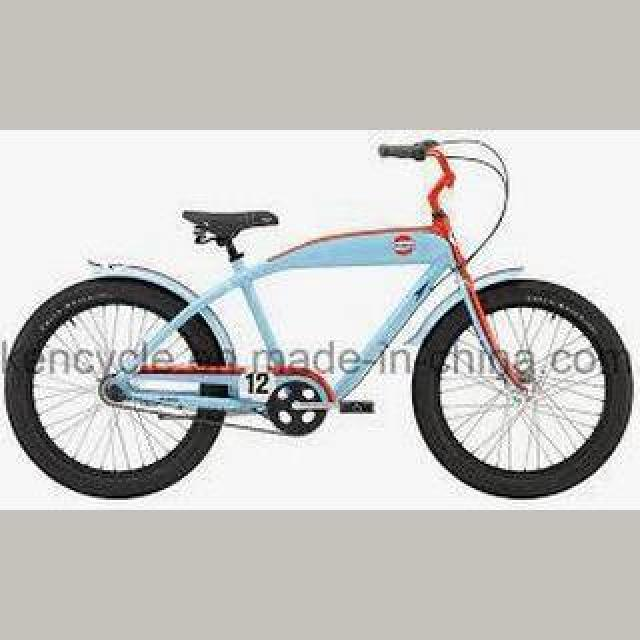Person: (4, 134, 638, 504)
